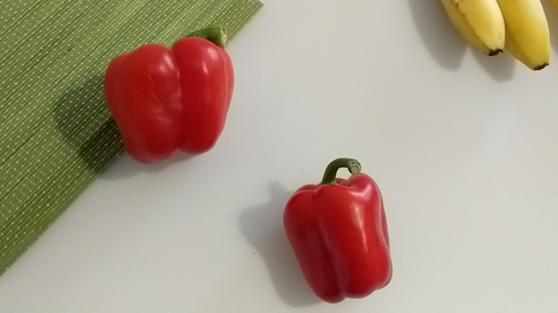pepper: (107, 26, 235, 160), (289, 159, 400, 305)
